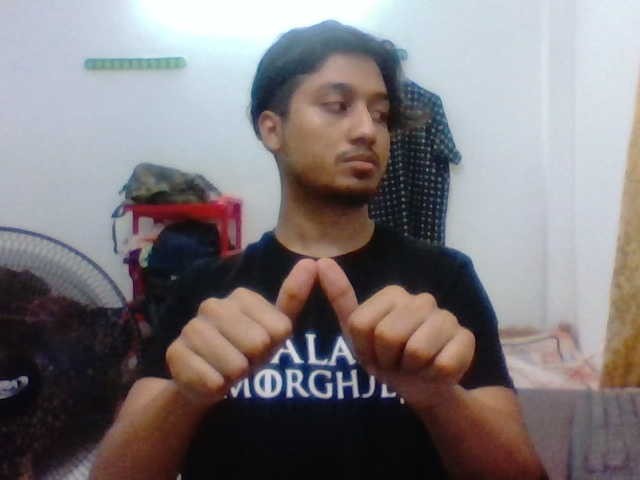A: (151, 235, 483, 405)
